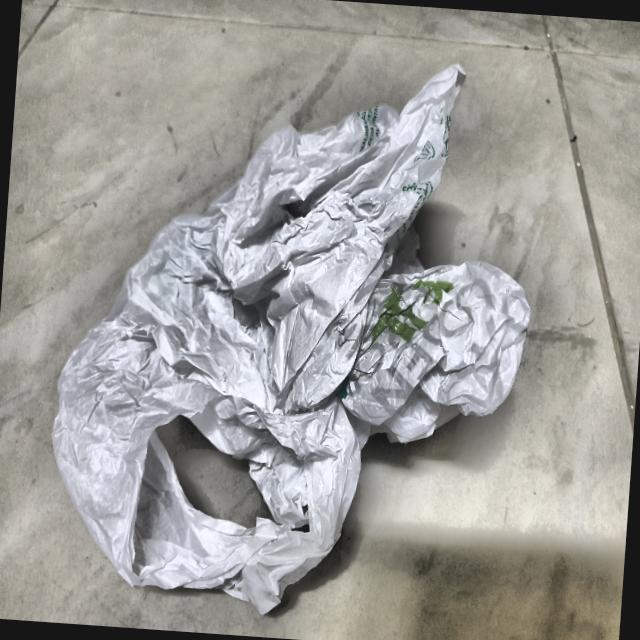plastic bag: (27, 24, 558, 637)
